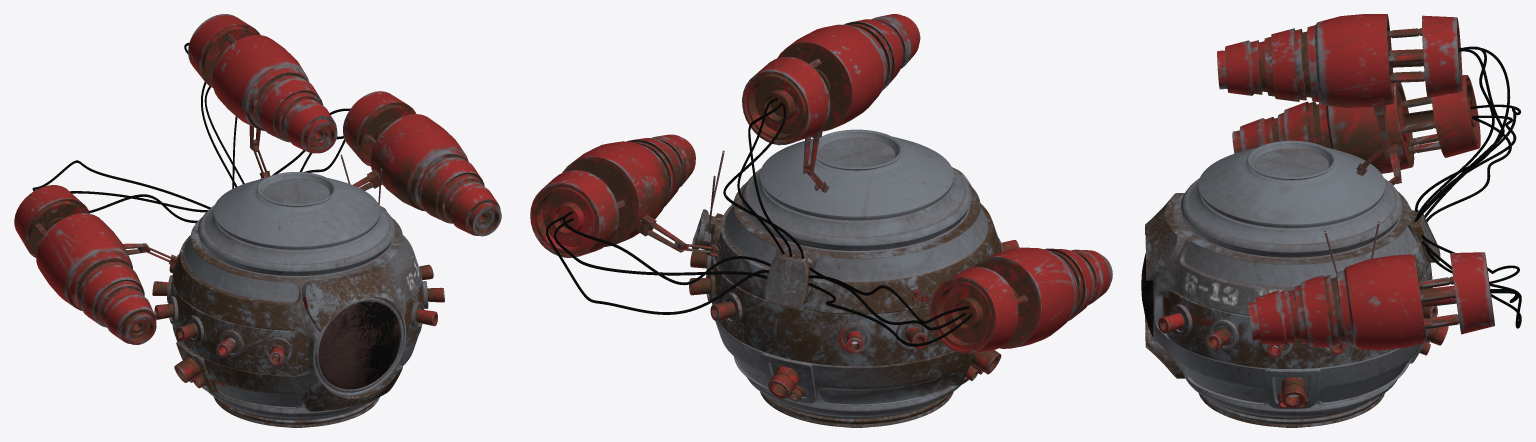
Rendered from PBR Dron.fbx.
3 views of the same model, side by side, from view 1: azimuth 30°, elevation 25°; view 2: azimuth 150°, elevation 25°; view 3: azimuth 270°, elevation 25° (orthographic). The views are drawn at different scales.
Parts seen in each view (by area): view 1: weapon/hand, Baddy, Belt, Glass 2, Face baddy, Cabele, Weapon Circle, Armature, turbine; view 2: Baddy, weapon/hand, Belt, Cabele, Pribore, Armature, Weapon Circle, turbine; view 3: Baddy, weapon/hand, Belt, Armature, Cabele, Face baddy, Weapon Circle, turbine, Pribore, Glass 2.
Boxes of the visible parts, <box> form: weapon/hand: <box>14,14,501,344</box>; Baddy: <box>172,172,420,427</box>; Belt: <box>167,270,428,375</box>; Glass 2: <box>318,301,400,389</box>; Face baddy: <box>302,262,404,411</box>; Cabele: <box>32,42,349,223</box>; Weapon Circle: <box>152,264,444,365</box>; Armature: <box>35,34,383,267</box>; turbine: <box>174,357,205,388</box>; Baddy: <box>714,129,1001,427</box>; weapon/hand: <box>530,14,1112,353</box>; Belt: <box>706,237,1003,366</box>; Cabele: <box>546,98,972,346</box>; Pribore: <box>692,209,812,308</box>; Armature: <box>617,58,1027,304</box>; Weapon Circle: <box>689,240,1019,353</box>; turbine: <box>768,350,1001,401</box>; Baddy: <box>1153,140,1430,427</box>; weapon/hand: <box>1217,14,1494,350</box>; Belt: <box>1163,263,1432,368</box>; Armature: <box>1356,28,1459,329</box>; Cabele: <box>1414,46,1521,328</box>; Face baddy: <box>1145,193,1185,378</box>; Weapon Circle: <box>1158,306,1437,357</box>; turbine: <box>1278,326,1448,408</box>; Pribore: <box>1411,210,1440,262</box>; Glass 2: <box>1141,253,1153,337</box>.
Size of the model in its own units: 375 by 300 by 267.
